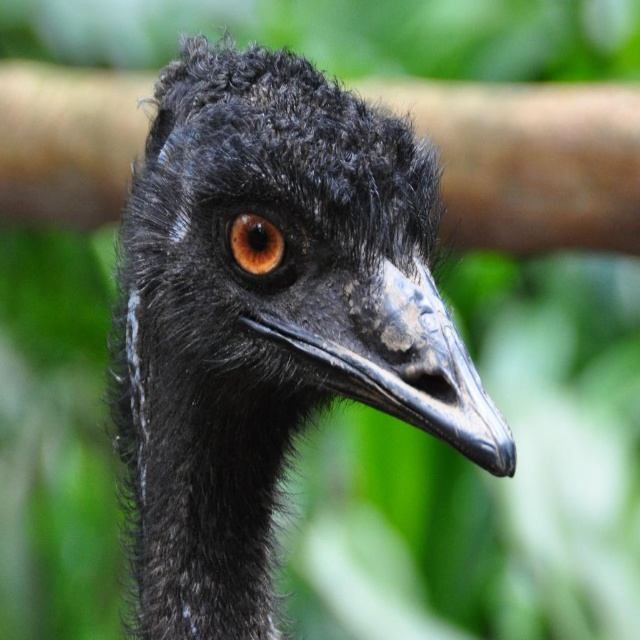Ostrich: (108, 27, 518, 639)
